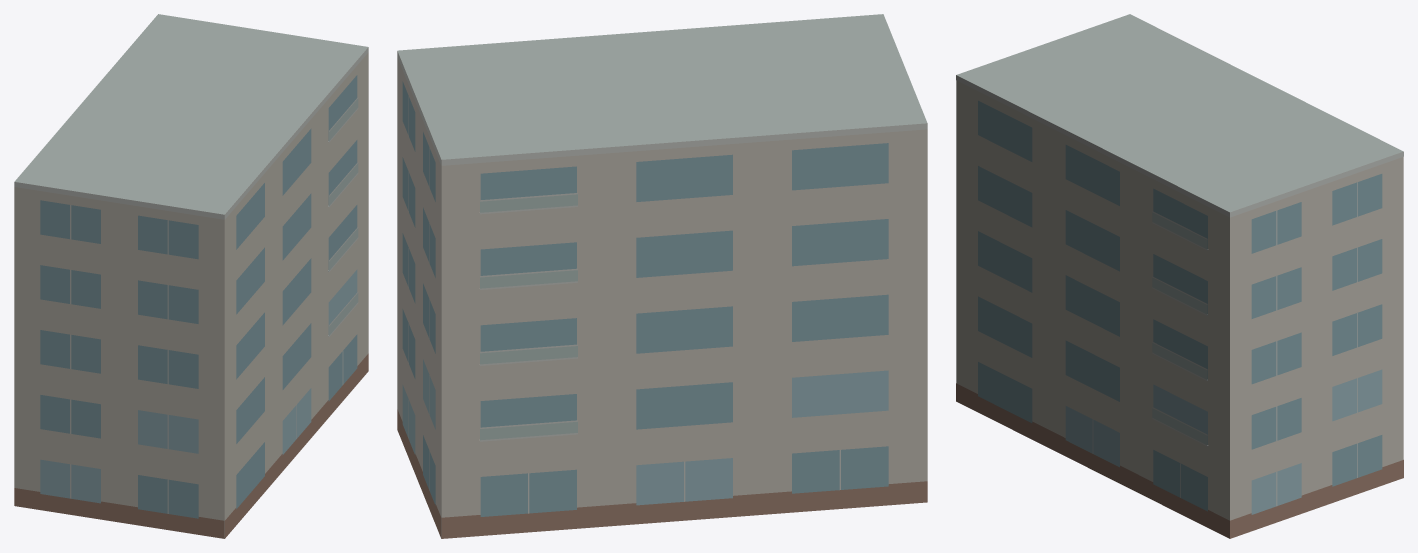
Rendered from survey-upis-32922077.glb.
3 views of the same model, side by side, from view 1: azimuth 30°, elevation 25°; view 2: azimuth 150°, elevation 25°; view 3: azimuth 270°, elevation 25° (orthographic). The views are drawn at different scales.
Parts seen in each view (by area): view 1: survey-upis-32922077.tmp; view 2: survey-upis-32922077.tmp; view 3: survey-upis-32922077.tmp.
Part boxes in pixels (left/top/right/bottom): survey-upis-32922077.tmp: left=14, top=14, right=368, bottom=538; survey-upis-32922077.tmp: left=397, top=14, right=927, bottom=538; survey-upis-32922077.tmp: left=956, top=14, right=1403, bottom=538.
Size of the model in its own units: 20.09 by 15.4 by 19.15.
